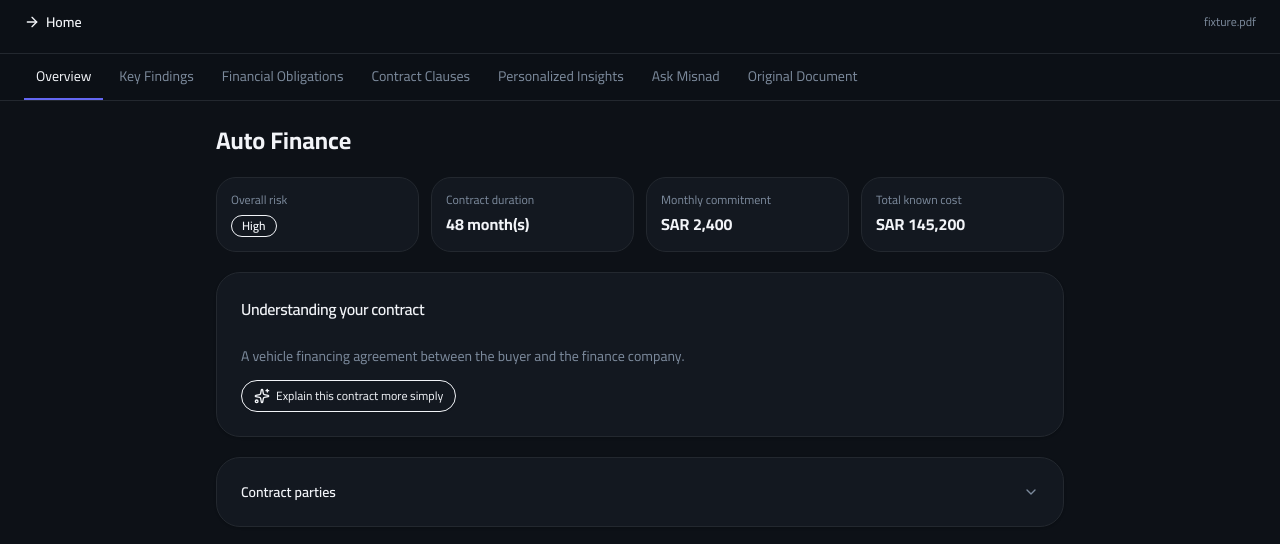
Test: V2 ResultsScreen › shows risk badges on clauses in the Clauses tab
Click the tab with test id "tab-trigger-clauses" at {"x": 421, "y": 77}, box [359,54,482,100]
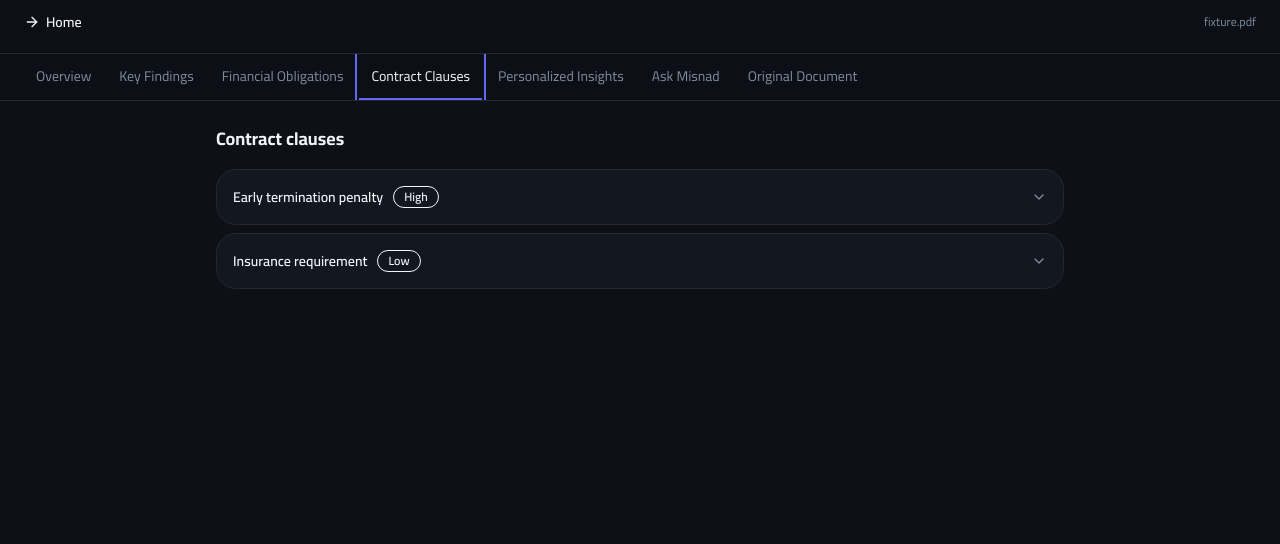
expect the text "High" is shown: met, box [393,186,439,208]
expect the element with test id "clause-item-0" is shown: met, box [216,169,1064,225]
